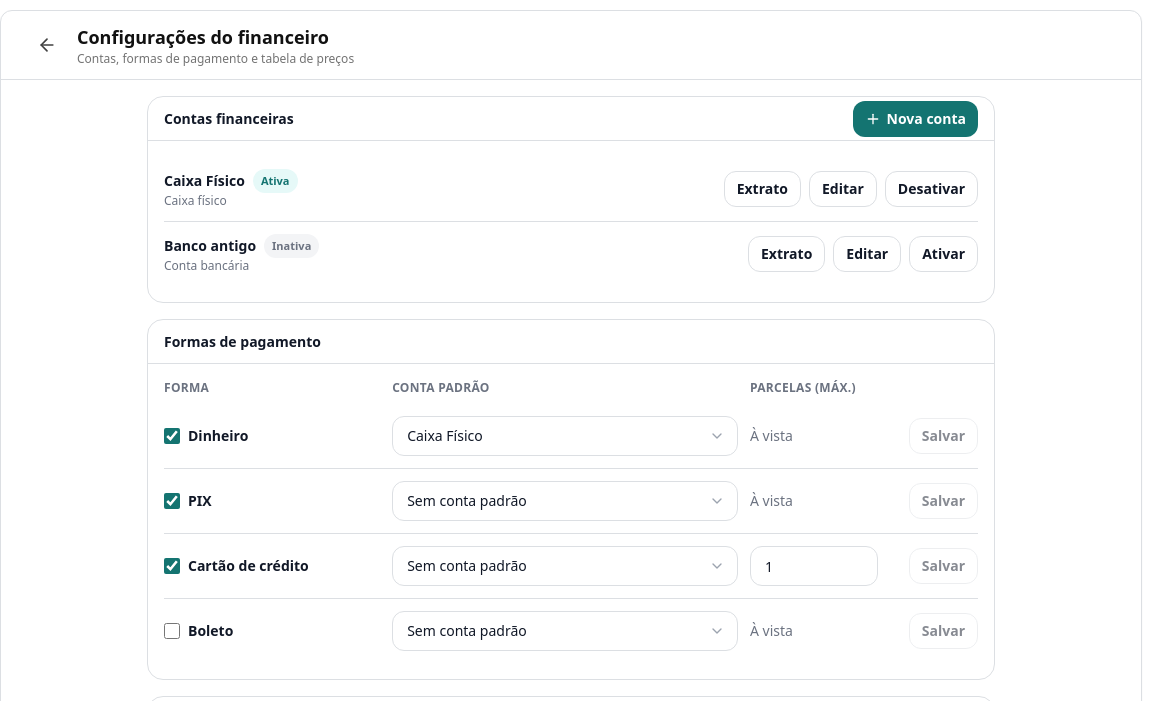
Test: FinanceSettings › salva a forma de pagamento editada
The width and height of the screenshot is (1152, 701).
Expected: the button with aria-label "Salvar Cartão de crédito" is disabled, [909,548,978,584]
Replace the text in the number field named "Parcelas de Cartão de crédito" with "6" at (814, 566), box [750,546,878,586]
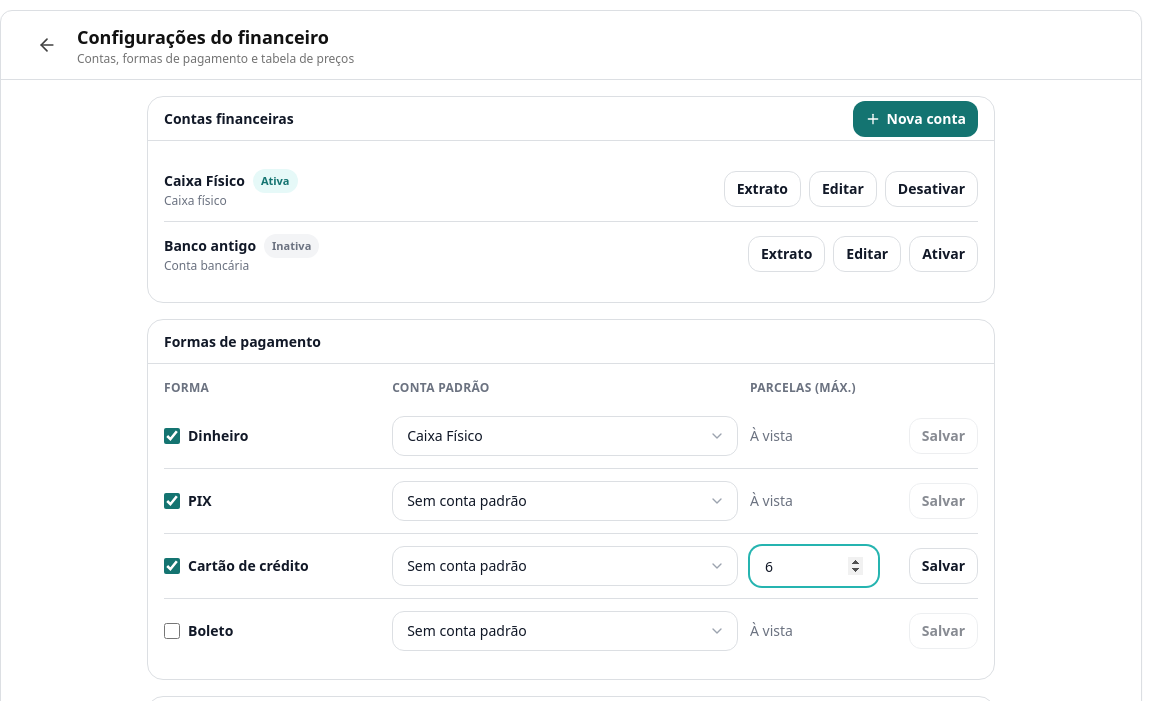
Select "Caixa Físico" in the dropdown named "Conta padrão de Cartão de crédito" at (565, 566), box [392,546,738,586]
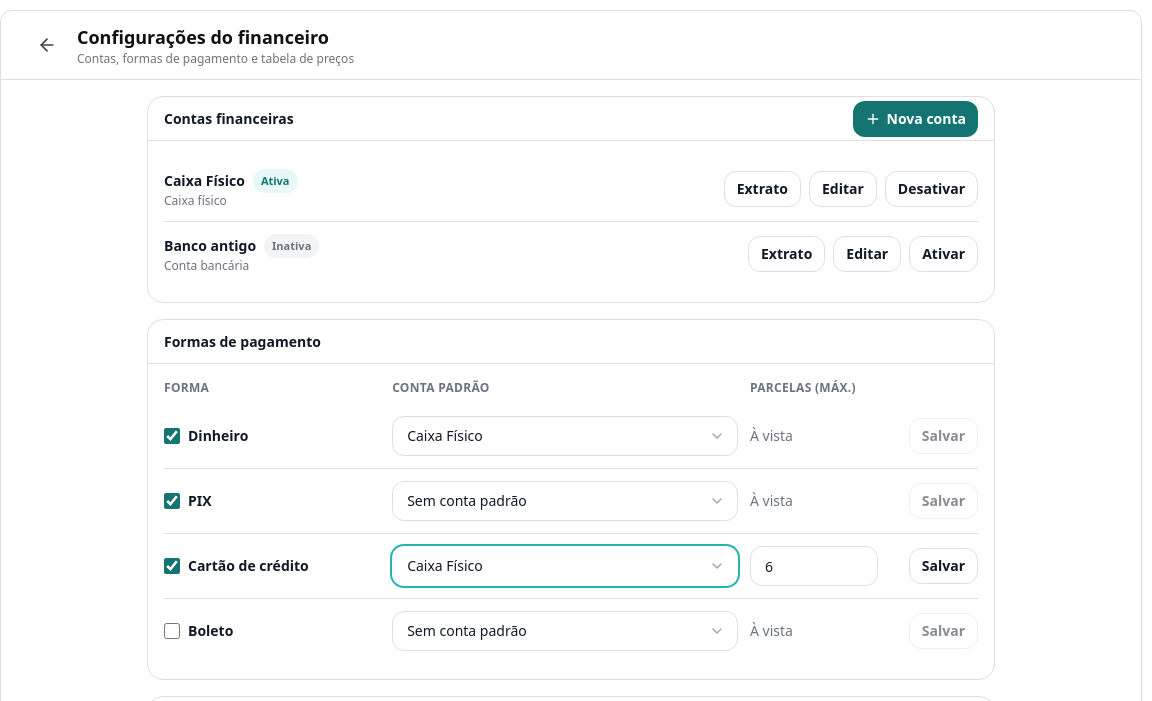
Click the button with aria-label "Salvar Cartão de crédito" at (943, 566), box [909,548,978,584]
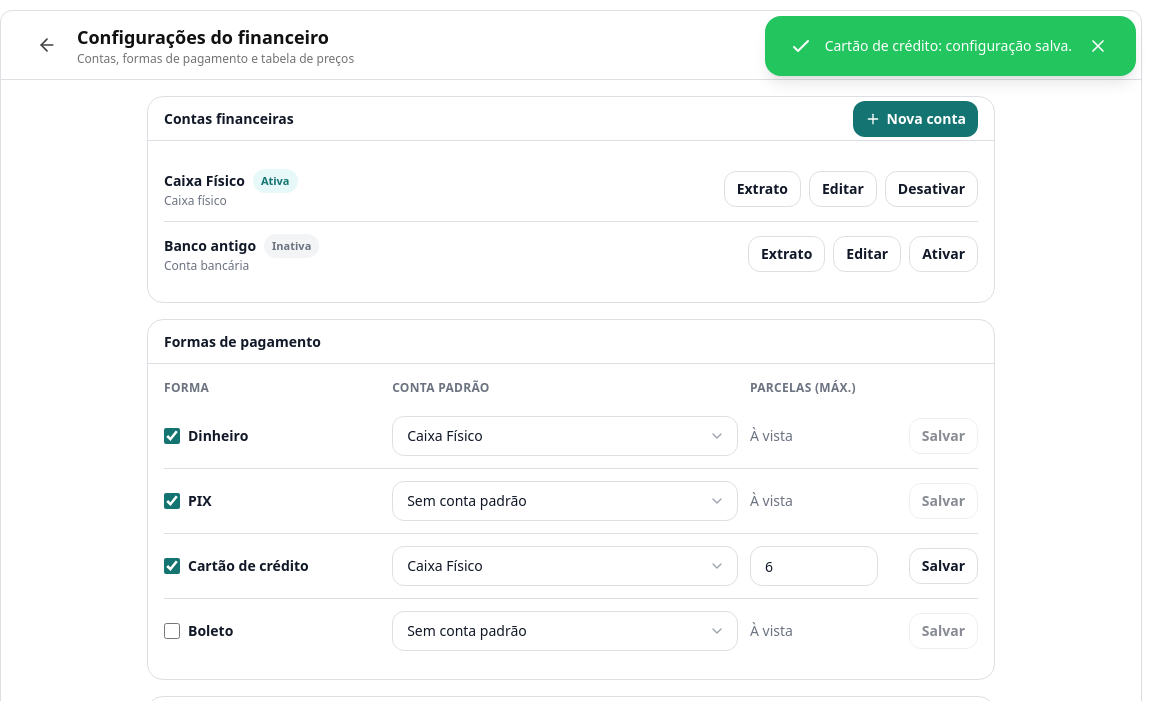
Expected: the text "Cartão de crédito: configuração salva." is shown, [825,36,1072,56]
